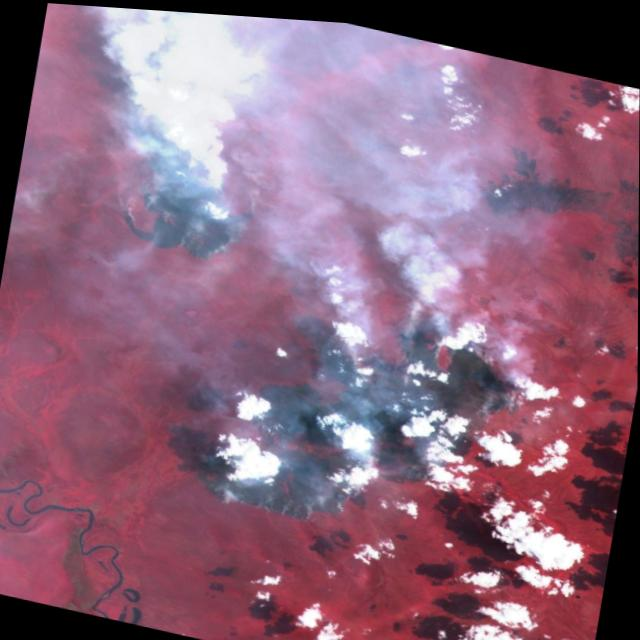fire: (178, 266, 540, 566), (97, 114, 274, 267)
